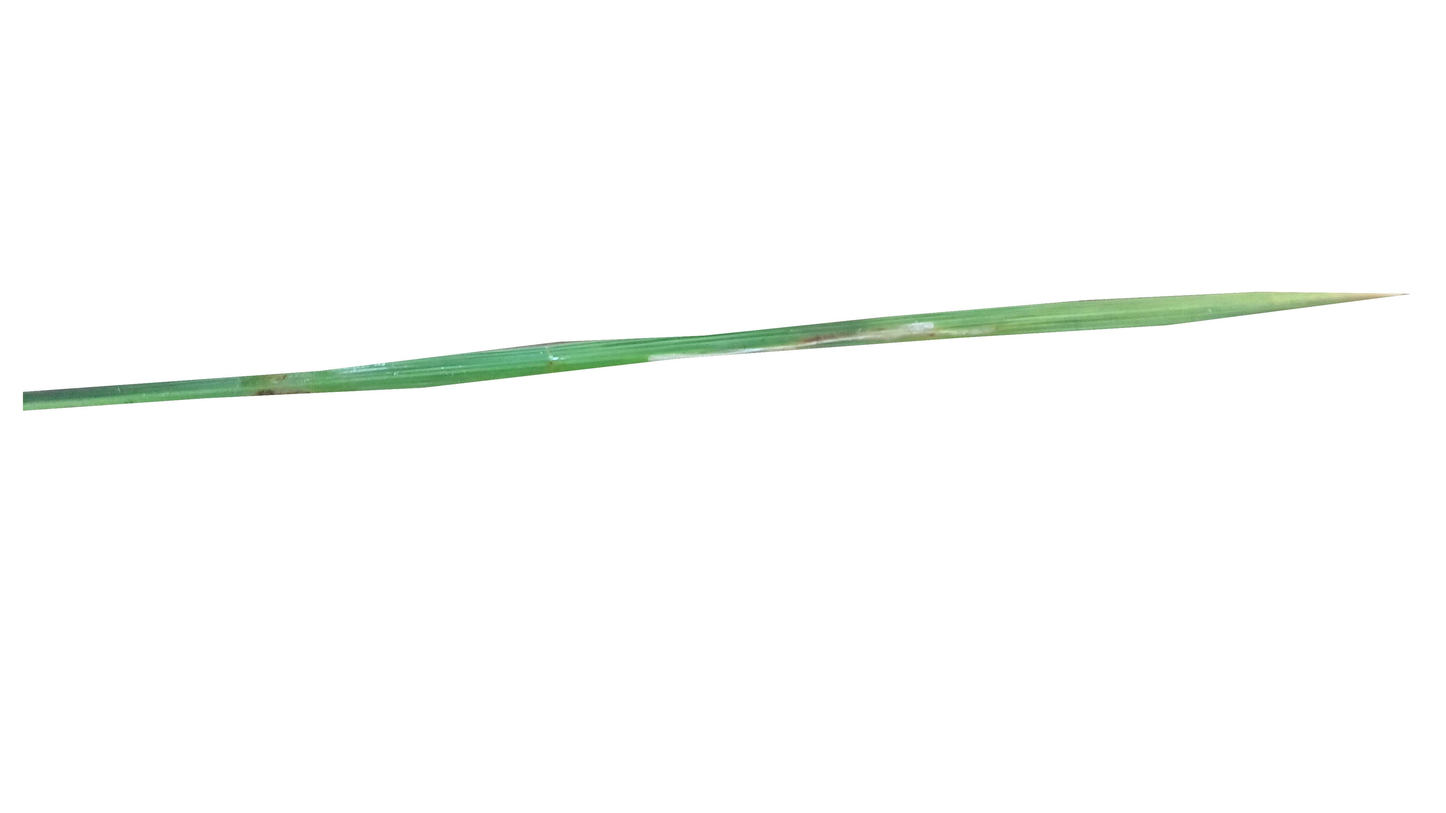Blight: (866, 314, 1005, 342)
Rice blast: (250, 367, 315, 405)
Tungro: (1178, 278, 1414, 325)
